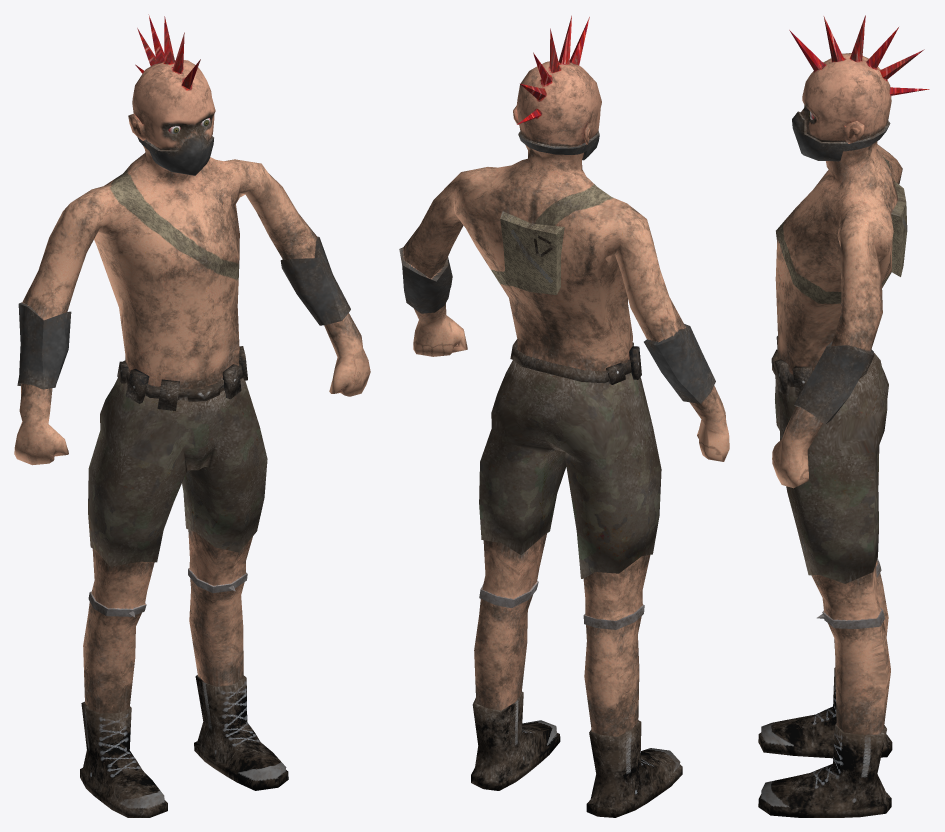
Rendered from Anim_idle_npc2.0034.obj.
The picture shows the model from 3 angles, left to right: view 1: azimuth 30°, elevation 25°; view 2: azimuth 150°, elevation 25°; view 3: azimuth 270°, elevation 25°; orthographic projection.
Visible parts, largest first — view 1: polySurface1; view 2: polySurface1; view 3: polySurface1.
Boxes of the visible parts, x1=… form: polySurface1: x1=14, y1=14, x2=370, y2=817; polySurface1: x1=399, y1=15, x2=729, y2=817; polySurface1: x1=758, y1=15, x2=929, y2=817.
Bounding box in the file's own units: 4.7 × 10.18 × 2.07.
